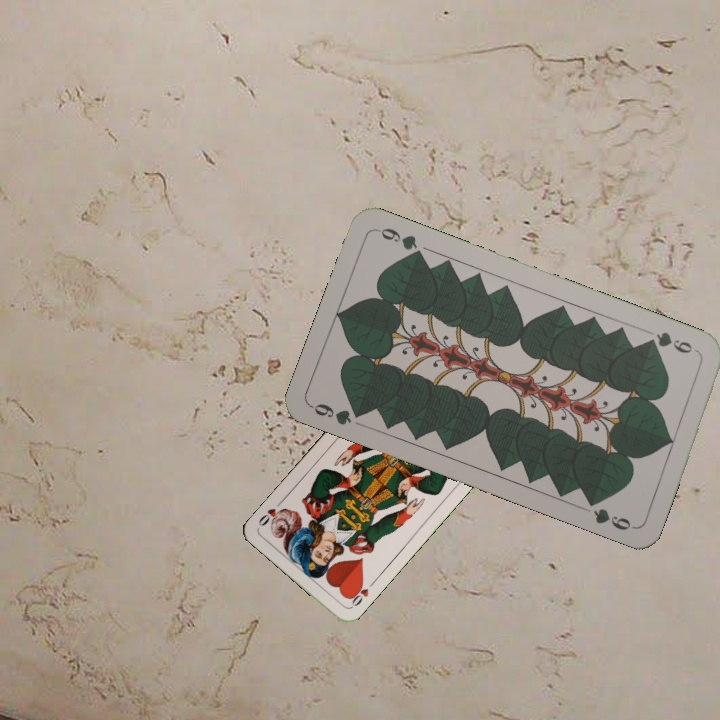G9: (642, 327, 702, 357), (307, 399, 368, 428)
HO: (345, 577, 378, 610)
